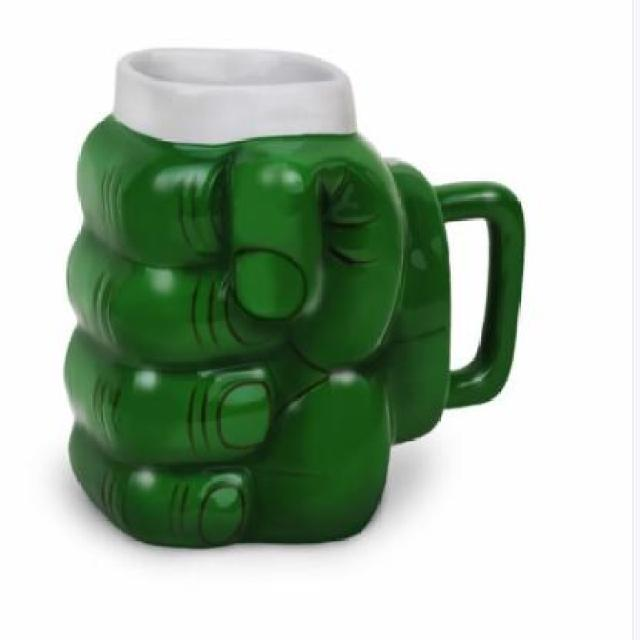cup: (57, 35, 534, 557)
